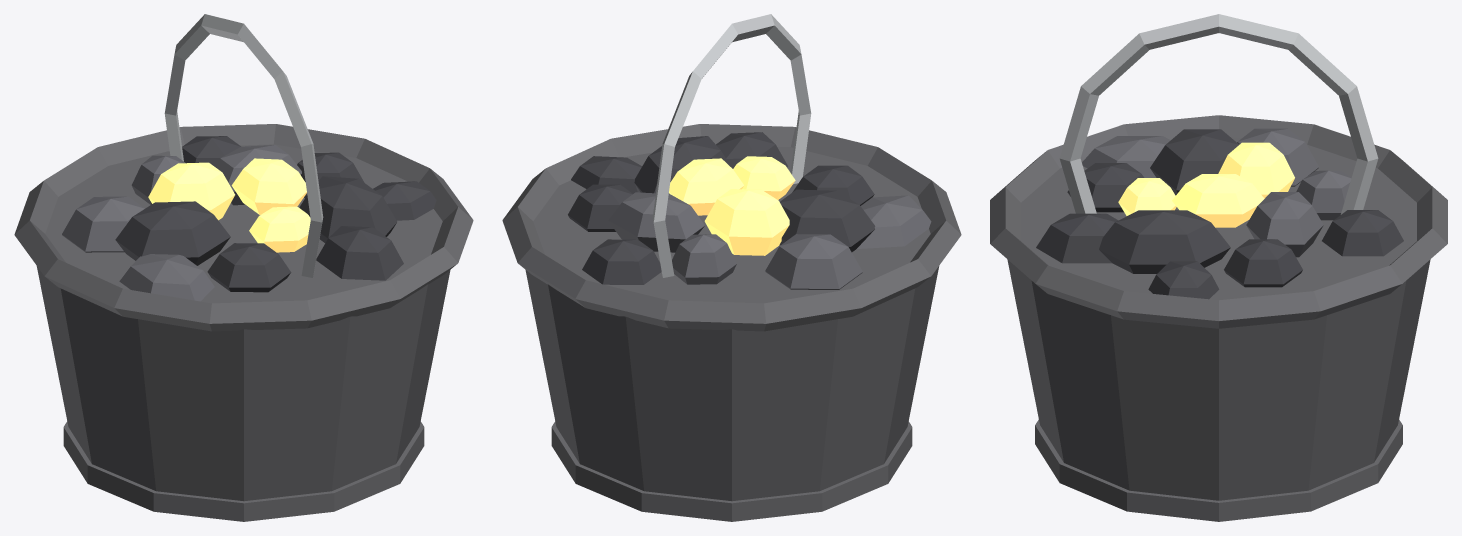
The model's file is station_coal.glb.
3 views of the same model, side by side, from view 1: azimuth 30°, elevation 25°; view 2: azimuth 150°, elevation 25°; view 3: azimuth 270°, elevation 25° (orthographic).
Parts seen in each view (by area): view 1: Scuttle, Coal.4, Coal.3, Coal.0, Handle; view 2: Scuttle, Coal.4, Coal.3, Coal.0, Handle; view 3: Scuttle, Coal.4, Handle, Coal.3, Coal.0.
Part boxes in pixels (left/top/right/bottom): Scuttle: left=14, top=124, right=473, bottom=521; Coal.4: left=115, top=136, right=436, bottom=292; Coal.3: left=62, top=145, right=301, bottom=301; Coal.0: left=148, top=158, right=310, bottom=252; Handle: left=164, top=14, right=323, bottom=277; Scuttle: left=502, top=124, right=961, bottom=521; Coal.4: left=568, top=132, right=875, bottom=284; Coal.3: left=608, top=192, right=931, bottom=289; Coal.0: left=669, top=156, right=795, bottom=255; Handle: left=652, top=14, right=811, bottom=277; Scuttle: left=990, top=115, right=1447, bottom=521; Coal.4: left=1036, top=129, right=1403, bottom=299; Handle: left=1059, top=14, right=1378, bottom=214; Coal.3: left=1082, top=128, right=1351, bottom=257; Coal.0: left=1118, top=142, right=1294, bottom=227.
Bounding box in the file's own units: 0.536 × 0.542 × 0.5226.
